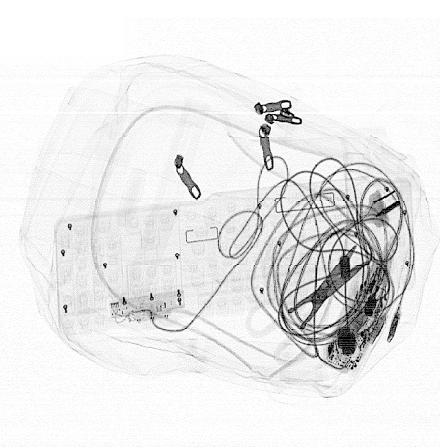Scissors: (245, 242, 372, 368)
